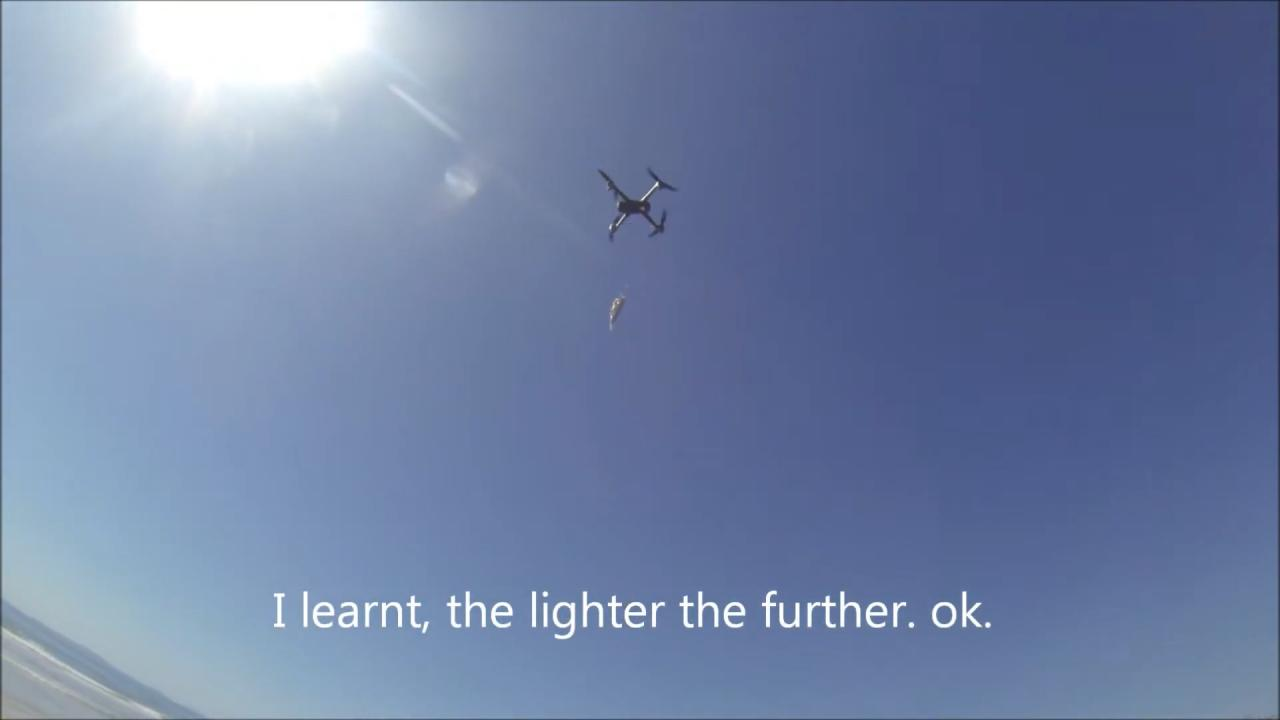Drone: (582, 158, 694, 252)
